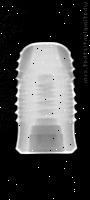Cowellmedi: (15, 40, 78, 154)
